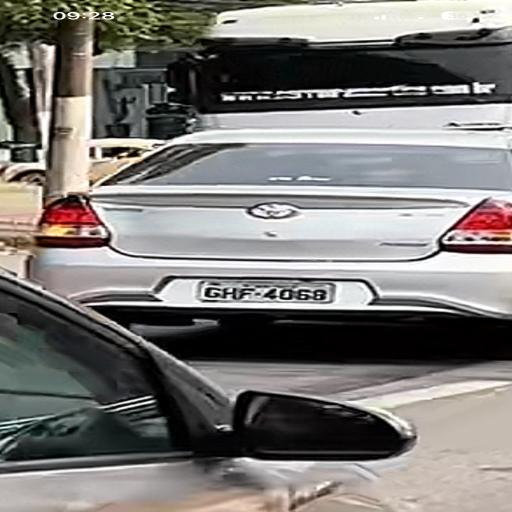detec-o-placas: (142, 248, 402, 346)
